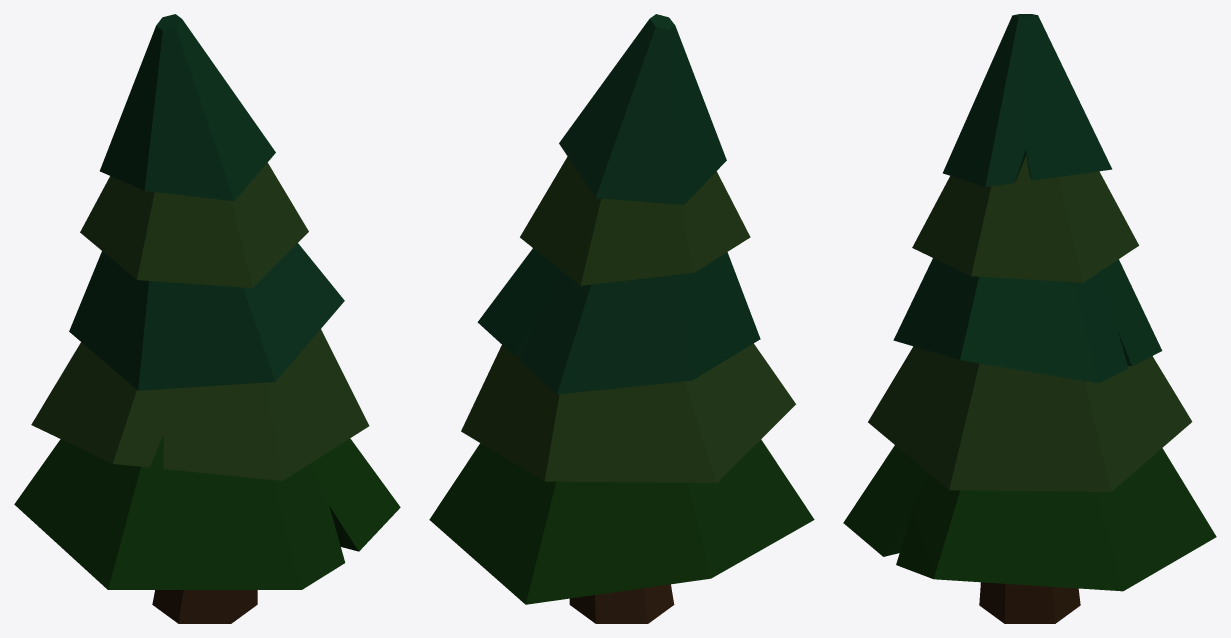
File: Tree6.1.fbx
3 renders of one model, left to right at view 1: azimuth 30°, elevation 25°; view 2: azimuth 150°, elevation 25°; view 3: azimuth 270°, elevation 25°, orthographic. The views are drawn at different scales.
Visible parts, largest first — view 1: Cylinder.024; view 2: Cylinder.024; view 3: Cylinder.024.
Part boxes in pixels (x1=…): Cylinder.024: x1=14, y1=14, x2=400, y2=623; Cylinder.024: x1=429, y1=14, x2=814, y2=623; Cylinder.024: x1=843, y1=14, x2=1216, y2=623.
Size of the model in its own units: 303 by 593 by 349.
4 materials, 4 textured.
